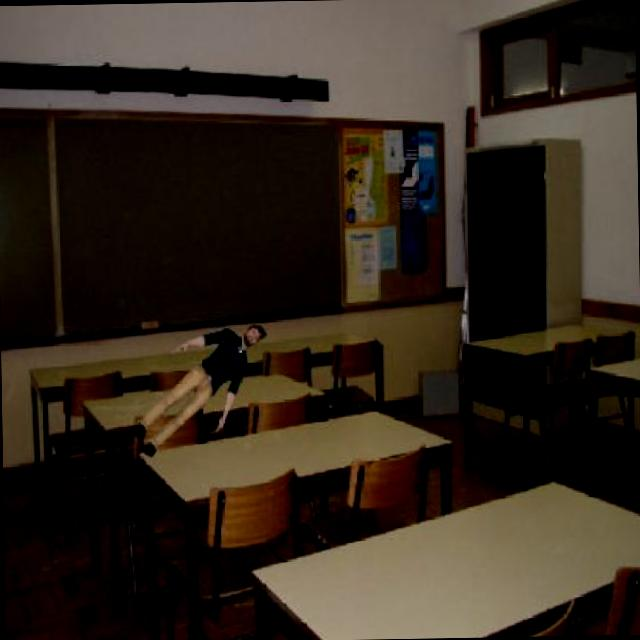Person: (128, 316, 269, 456)
